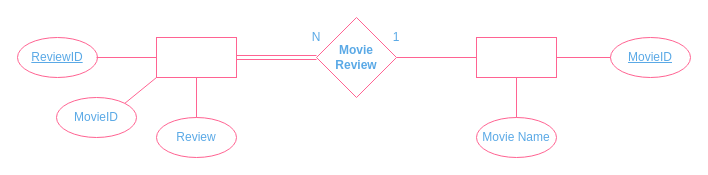
The diagram is 708 pixels wide and 175 high, and some of its shapes have lost their labels. The centre of each missing label's shape, as x and y in pixels:
"Movies" belongs at [516,57].
"Reviews" belongs at [196,57].
